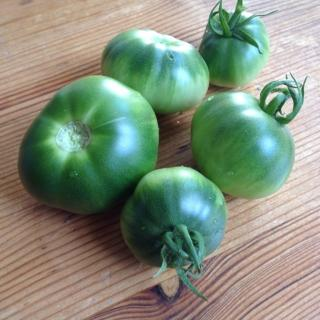tomato: (18, 72, 158, 222), (188, 69, 310, 200), (121, 164, 227, 300), (102, 26, 211, 115), (199, 0, 277, 90)
